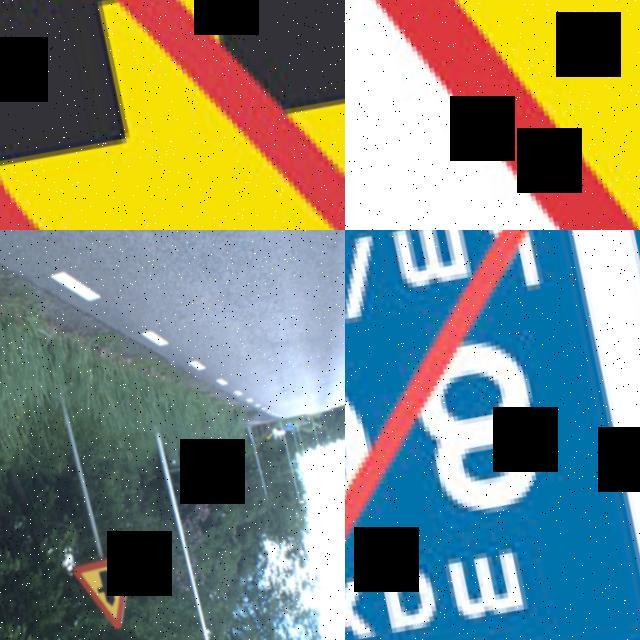166: (66, 536, 156, 640)
46: (0, 0, 345, 230)
Uneven road: (345, 0, 640, 230)
end of the speed limit: (345, 230, 640, 640)
